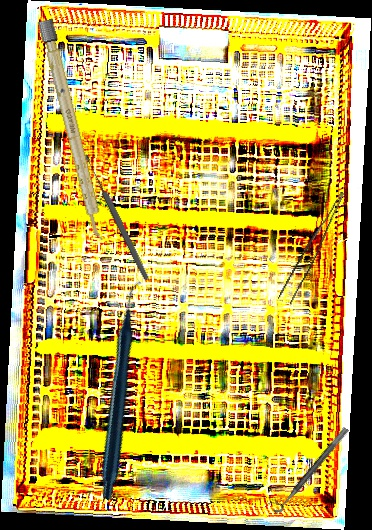Fixation Ring: (266, 420, 350, 516)
Handpiece: (14, 280, 234, 502)
Scalpel Handle: (37, 18, 108, 243)
Surgical Spoon: (82, 152, 151, 282)
Tissue Forceps: (277, 185, 345, 307)
